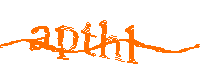a: (29, 22, 50, 56)
h: (96, 19, 124, 63)
l: (124, 21, 140, 65)
p: (55, 23, 80, 64)
t: (79, 22, 99, 59)
